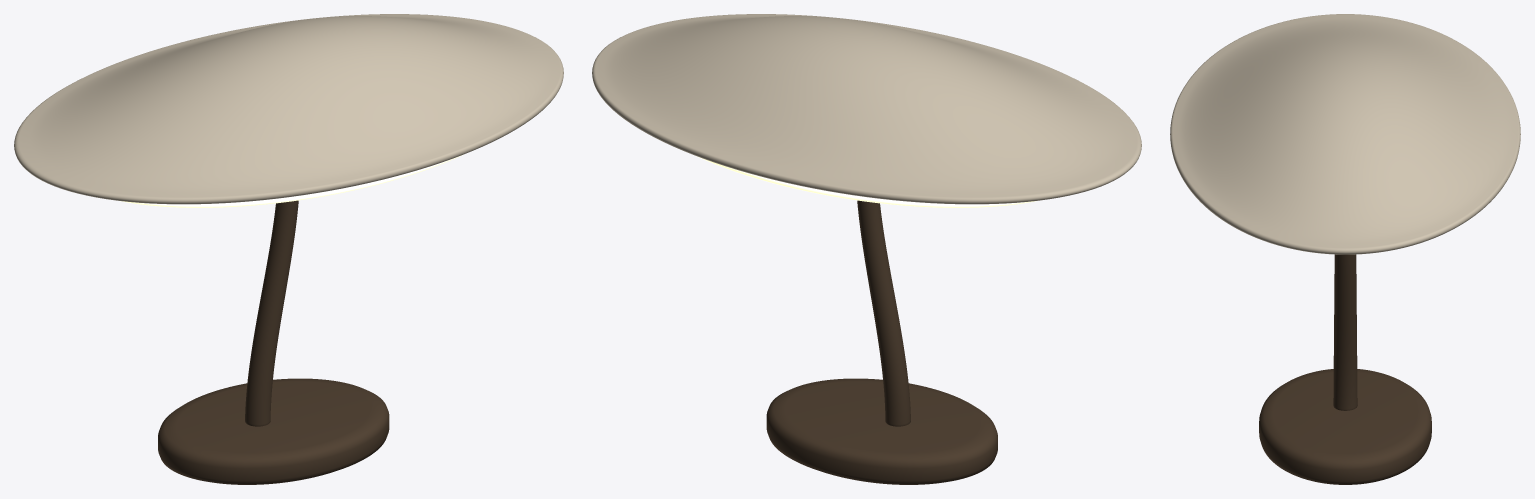
The picture shows the model from 3 angles, left to right: view 1: azimuth 30°, elevation 25°; view 2: azimuth 150°, elevation 25°; view 3: azimuth 270°, elevation 25°; orthographic projection. The views are drawn at different scales.
Parts seen in each view (by area): view 1: 01 Shade - closed mineral shell, 03 Base - rounded bronze plinth, 04 Stem - tapered S curve, 02 Diffuser - inset opal annulus; view 2: 01 Shade - closed mineral shell, 03 Base - rounded bronze plinth, 04 Stem - tapered S curve, 02 Diffuser - inset opal annulus; view 3: 01 Shade - closed mineral shell, 03 Base - rounded bronze plinth, 04 Stem - tapered S curve.
Boxes of the visible parts, x1,y1,x2,y2 form: 01 Shade - closed mineral shell: (14, 14, 563, 204); 03 Base - rounded bronze plinth: (158, 378, 389, 484); 04 Stem - tapered S curve: (245, 200, 298, 426); 02 Diffuser - inset opal annulus: (117, 154, 463, 207); 01 Shade - closed mineral shell: (592, 14, 1141, 204); 03 Base - rounded bronze plinth: (766, 378, 997, 484); 04 Stem - tapered S curve: (857, 200, 910, 426); 02 Diffuser - inset opal annulus: (692, 154, 1038, 207); 01 Shade - closed mineral shell: (1170, 14, 1520, 254); 03 Base - rounded bronze plinth: (1259, 369, 1431, 484); 04 Stem - tapered S curve: (1333, 254, 1357, 410).
Bounding box in the file's own units: 0.4874 × 0.36 × 0.3046.
